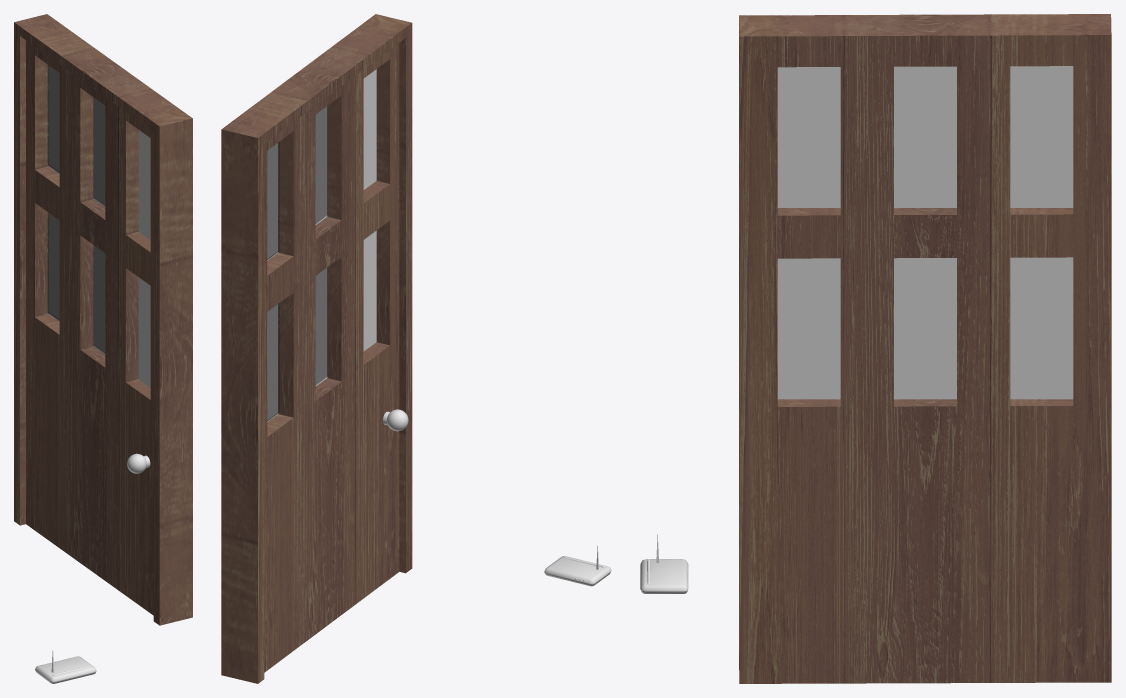
File: kapı ve modem.FBX
3 views of the same model, side by side, from view 1: azimuth 30°, elevation 25°; view 2: azimuth 150°, elevation 25°; view 3: azimuth 270°, elevation 25° (orthographic). The views are drawn at different scales.
Visible parts, largest first — view 1: PivotDoor001, Box352, ChamferBox001, Sphere035; view 2: PivotDoor001, Box352, ChamferBox001; view 3: PivotDoor001, Box352, ChamferBox001.
Boxes of the visible parts, x1,y1,x2,y2 form: PivotDoor001: [14, 14, 192, 625]; Box352: [49, 66, 150, 387]; ChamferBox001: [35, 656, 96, 683]; Sphere035: [127, 453, 146, 473]; PivotDoor001: [221, 14, 412, 683]; Box352: [267, 69, 376, 421]; ChamferBox001: [544, 556, 611, 586]; PivotDoor001: [739, 14, 1111, 683]; Box352: [777, 66, 1073, 399]; ChamferBox001: [640, 559, 688, 593].
Size of the model in its own units: 177 by 470 by 310.
